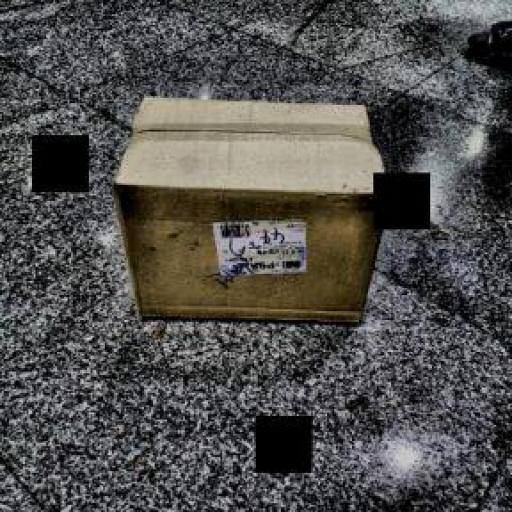box: (116, 85, 391, 331)
